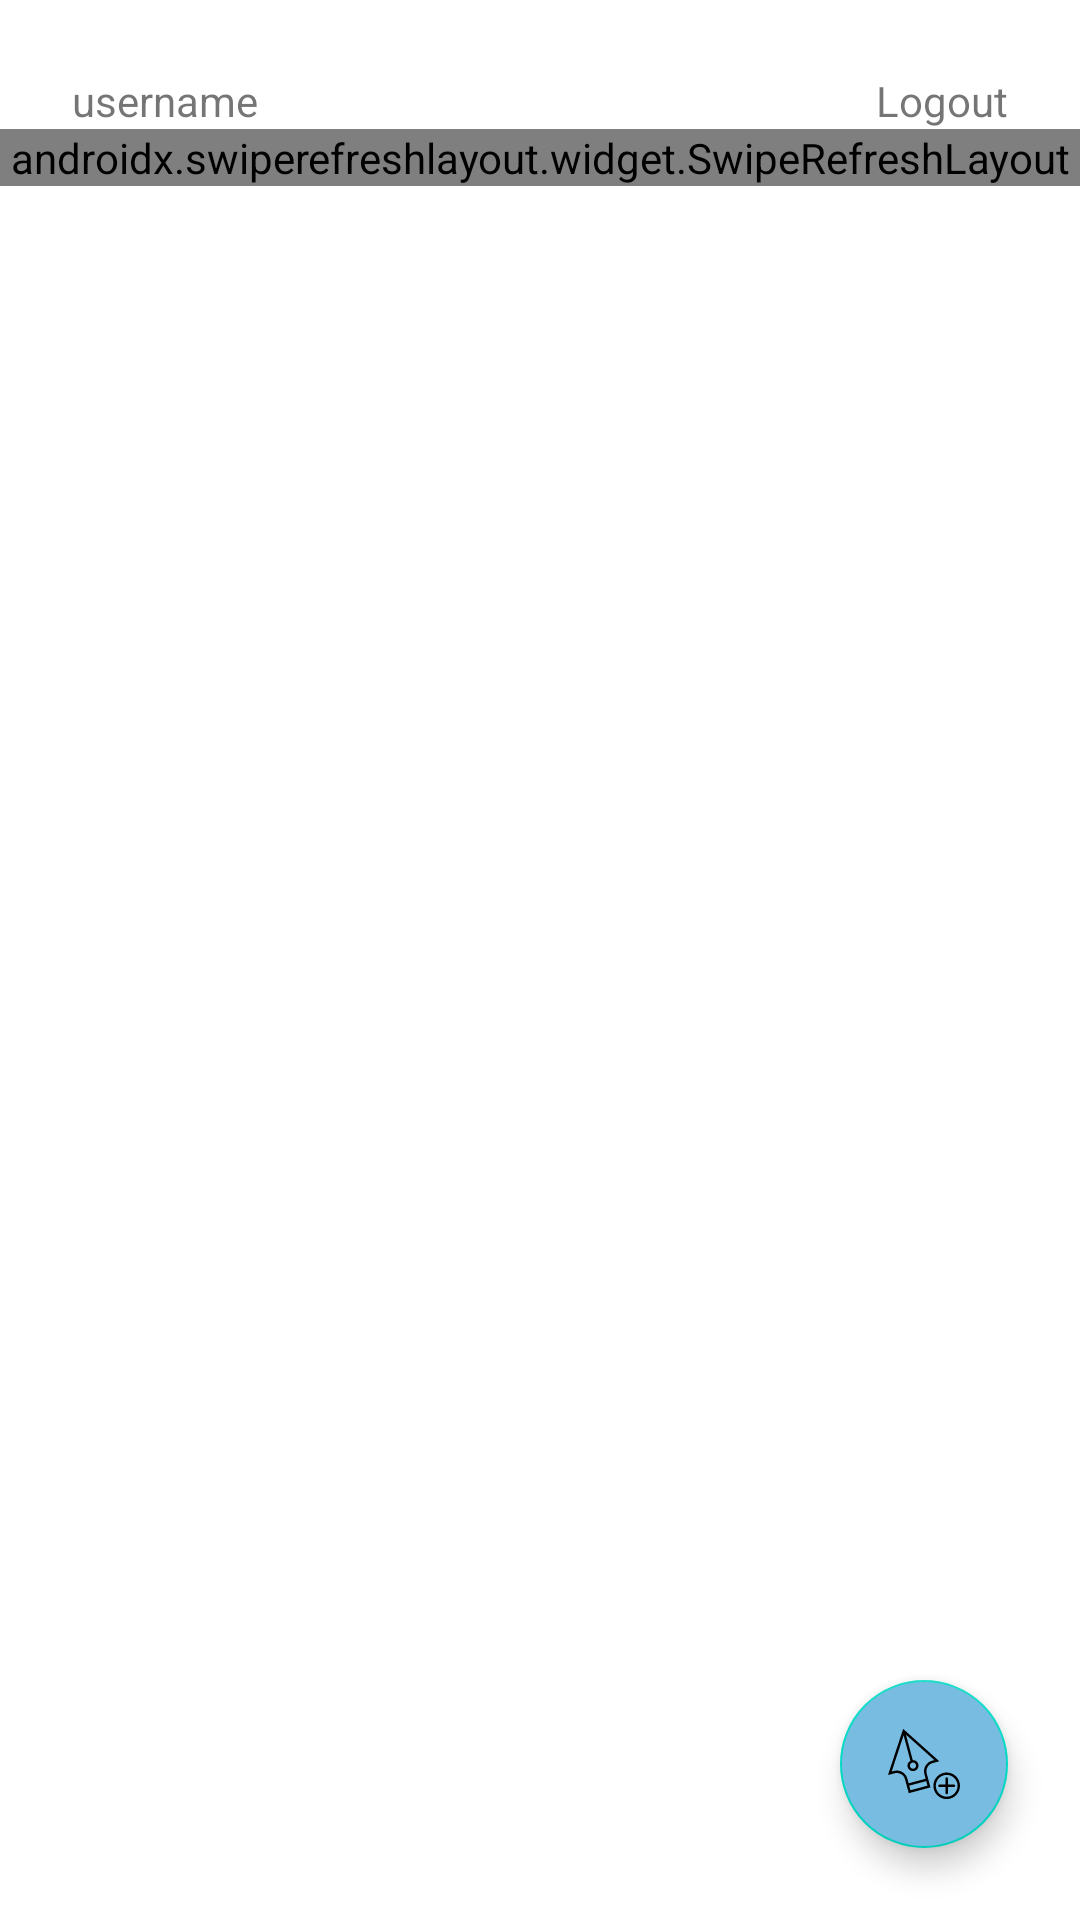

Icons on this 1080 x 1920 Android screen, each with the point to tap as (x=x, y=y):
Floating Action Button: (x=924, y=1764)
